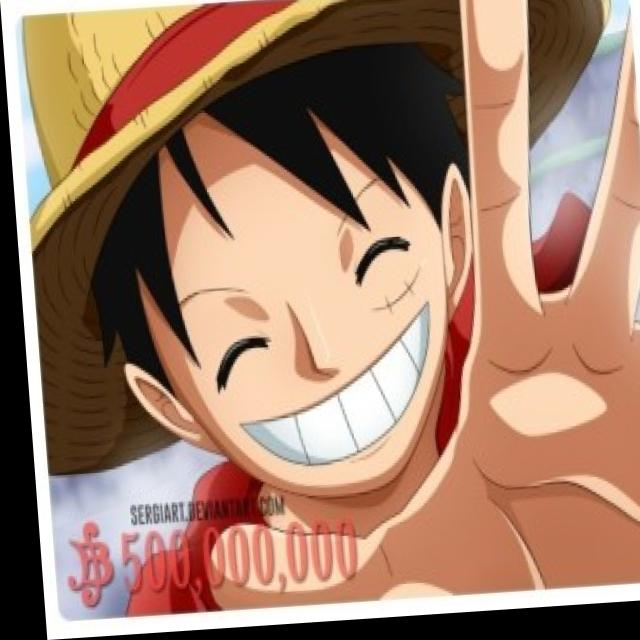Luffy: (0, 0, 603, 546)
